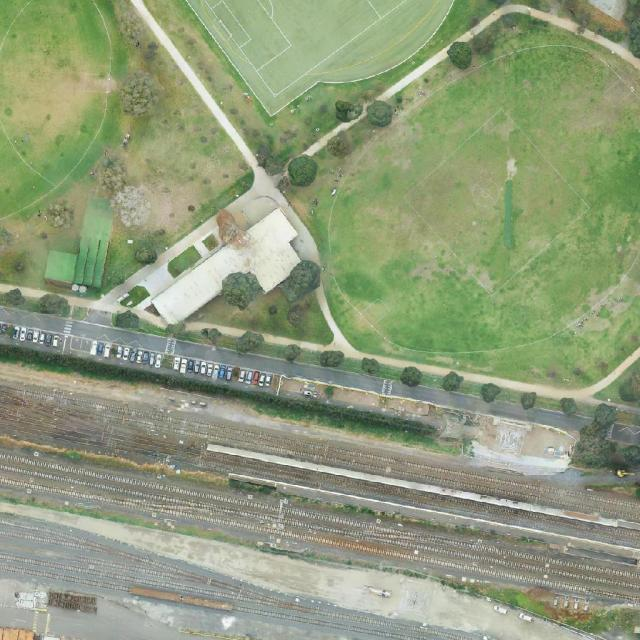greenland: (0, 343, 433, 445), (87, 148, 161, 234), (570, 400, 627, 474), (273, 254, 328, 305), (214, 263, 266, 315), (117, 70, 160, 119), (324, 129, 357, 163), (286, 154, 318, 187), (467, 27, 500, 59), (45, 200, 75, 228), (199, 322, 227, 350), (365, 99, 393, 127), (438, 368, 465, 395), (333, 100, 363, 124), (447, 41, 473, 68), (619, 369, 640, 401), (236, 331, 264, 354), (38, 293, 69, 313), (517, 388, 540, 412), (3, 286, 25, 309), (481, 382, 503, 403), (629, 18, 640, 58), (116, 310, 139, 329), (320, 350, 344, 367), (401, 366, 421, 386), (283, 342, 302, 363), (135, 246, 156, 265), (361, 357, 381, 375), (560, 396, 578, 416)
metalled_road: (170, 338, 384, 409), (390, 380, 586, 433), (0, 306, 169, 355), (0, 608, 33, 629), (32, 609, 50, 634)
unmetalled_road: (104, 0, 327, 279), (454, 0, 578, 43), (463, 372, 610, 402), (377, 45, 453, 103), (305, 283, 358, 361), (302, 109, 365, 160), (582, 25, 640, 71), (119, 258, 164, 297), (176, 216, 220, 253), (89, 283, 132, 320), (261, 333, 329, 352), (185, 320, 245, 338), (130, 305, 169, 330), (156, 238, 186, 265), (63, 292, 97, 312), (415, 362, 450, 379), (19, 286, 48, 300), (610, 398, 640, 411), (377, 355, 407, 367), (581, 397, 606, 406), (0, 284, 16, 294)
